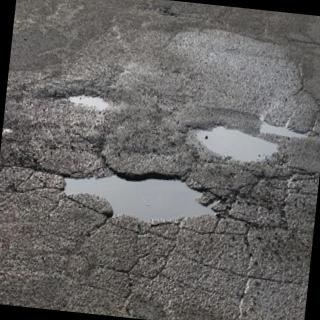pothole: (64, 172, 214, 223), (189, 127, 278, 164)
